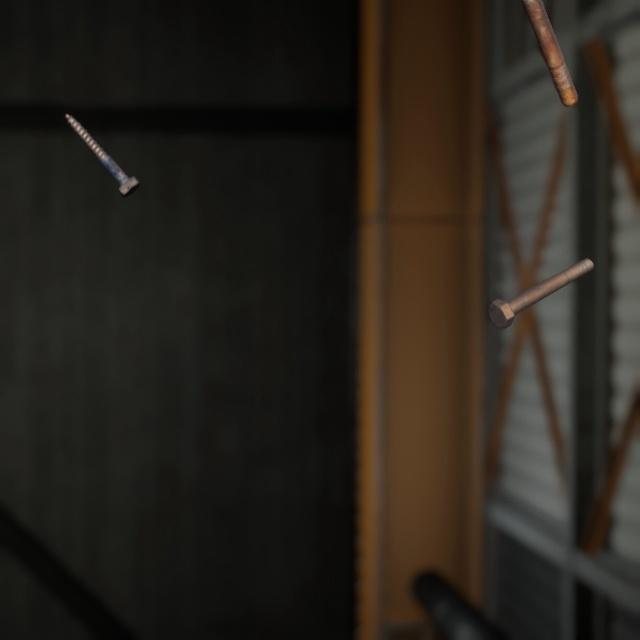bolt: (483, 237, 598, 315), (61, 96, 144, 188), (520, 0, 582, 102)
